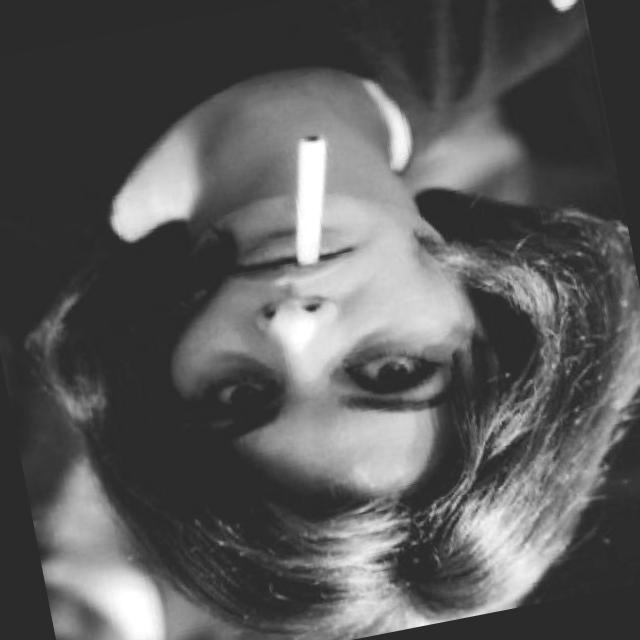smoke: (268, 128, 352, 270)
